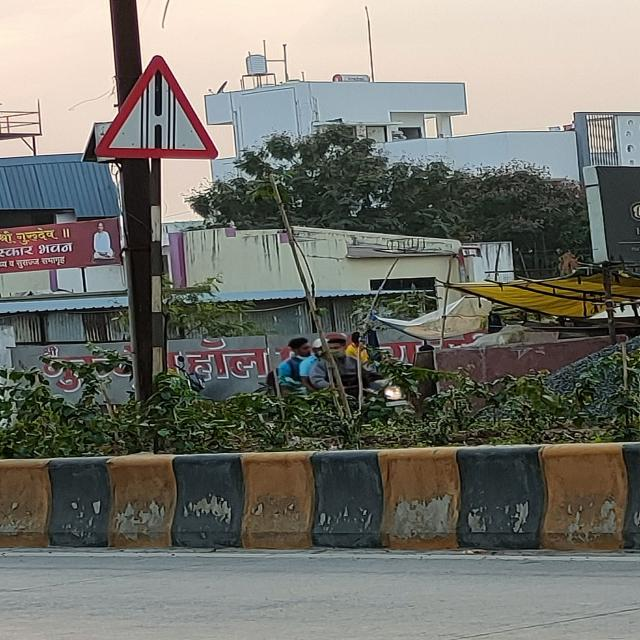ferry: (88, 56, 222, 162)
